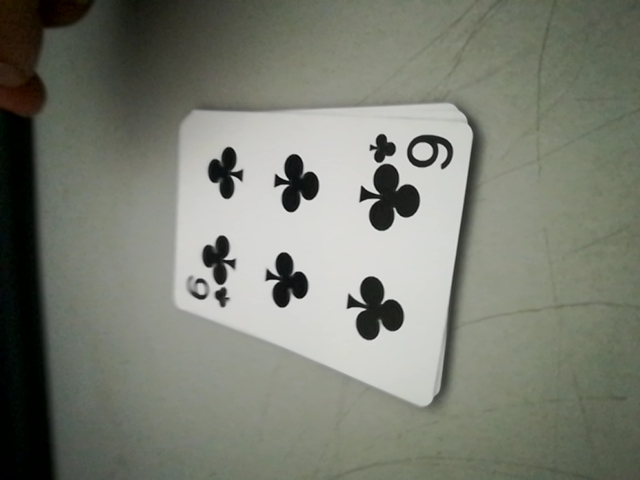mh 6: (370, 126, 459, 171), (179, 270, 232, 315)
